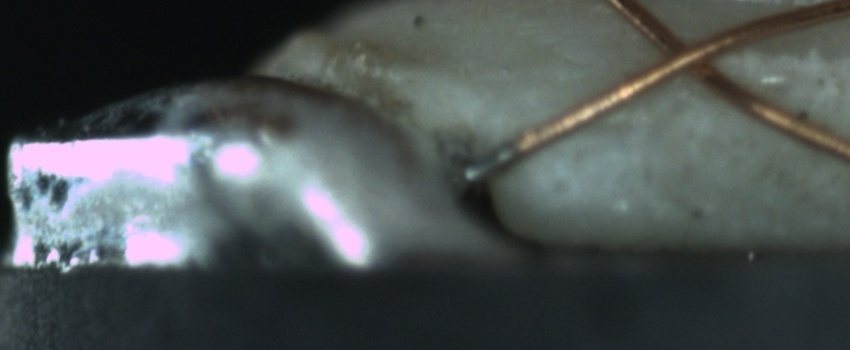CL: (640, 20, 742, 92)
DL: (560, 99, 642, 157)
TS: (458, 143, 514, 183)
